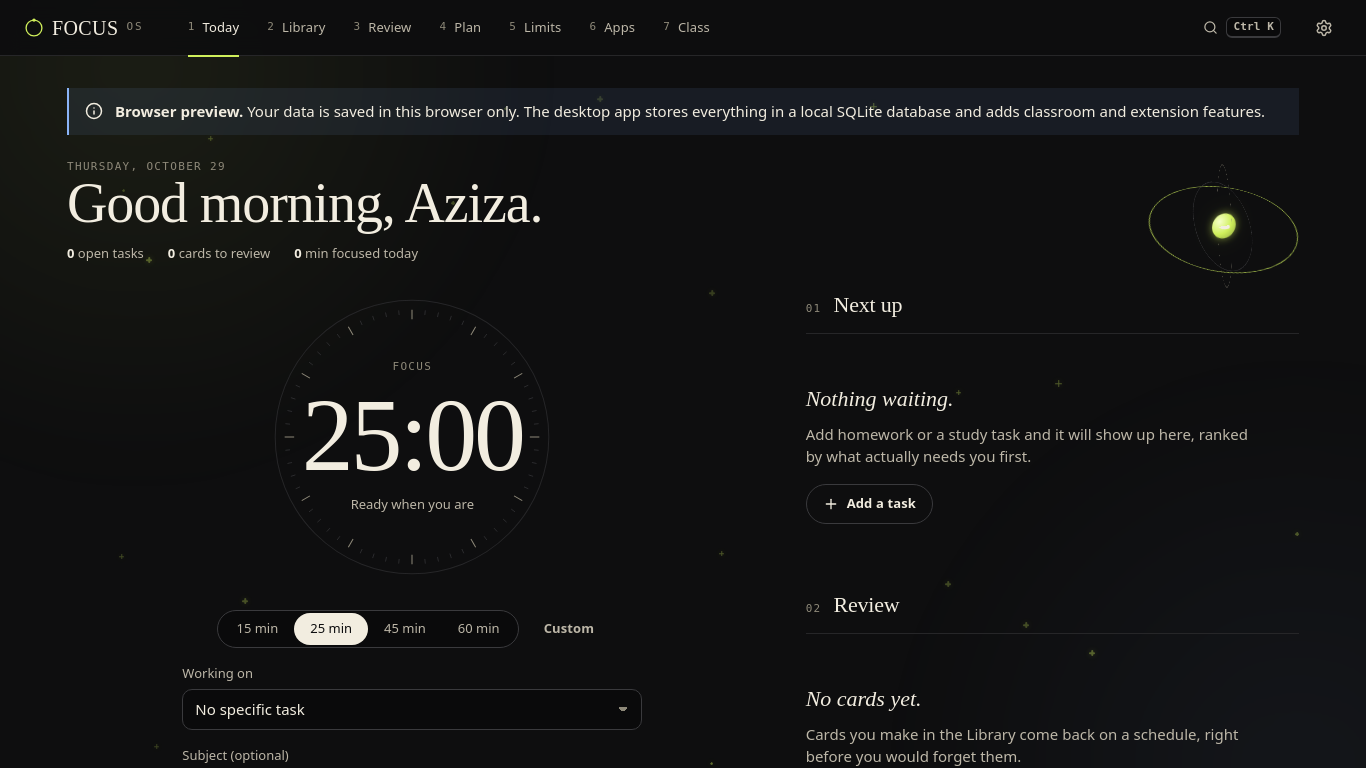
Test: navigation, palette and shortcuts › palette finds notes by content
Check: the text "25:00" is shown, box [302, 383, 523, 487]
Type keys "{Control>}k{/Control}"
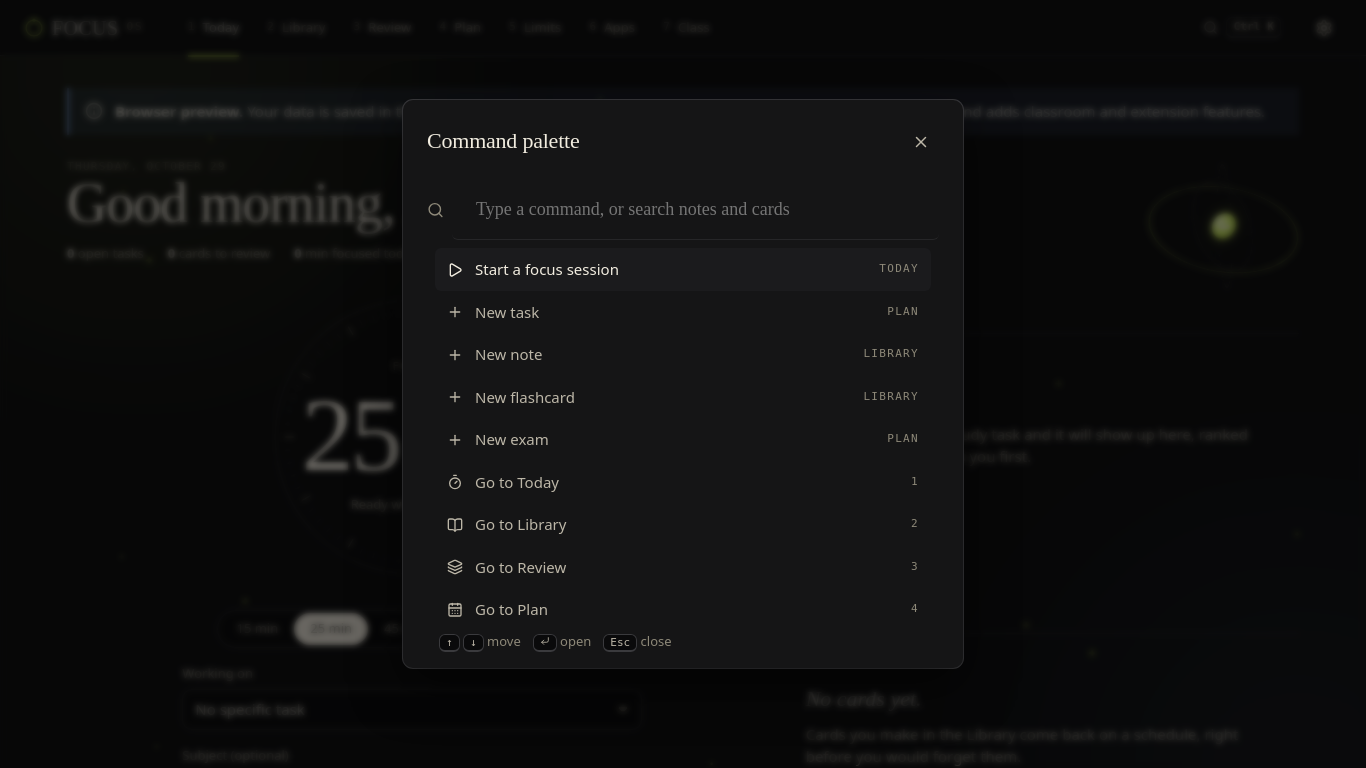
Type "sum of roots" into the dropdown named "search commands, notes and cards" at x=696, y=210, box [452, 180, 939, 240]
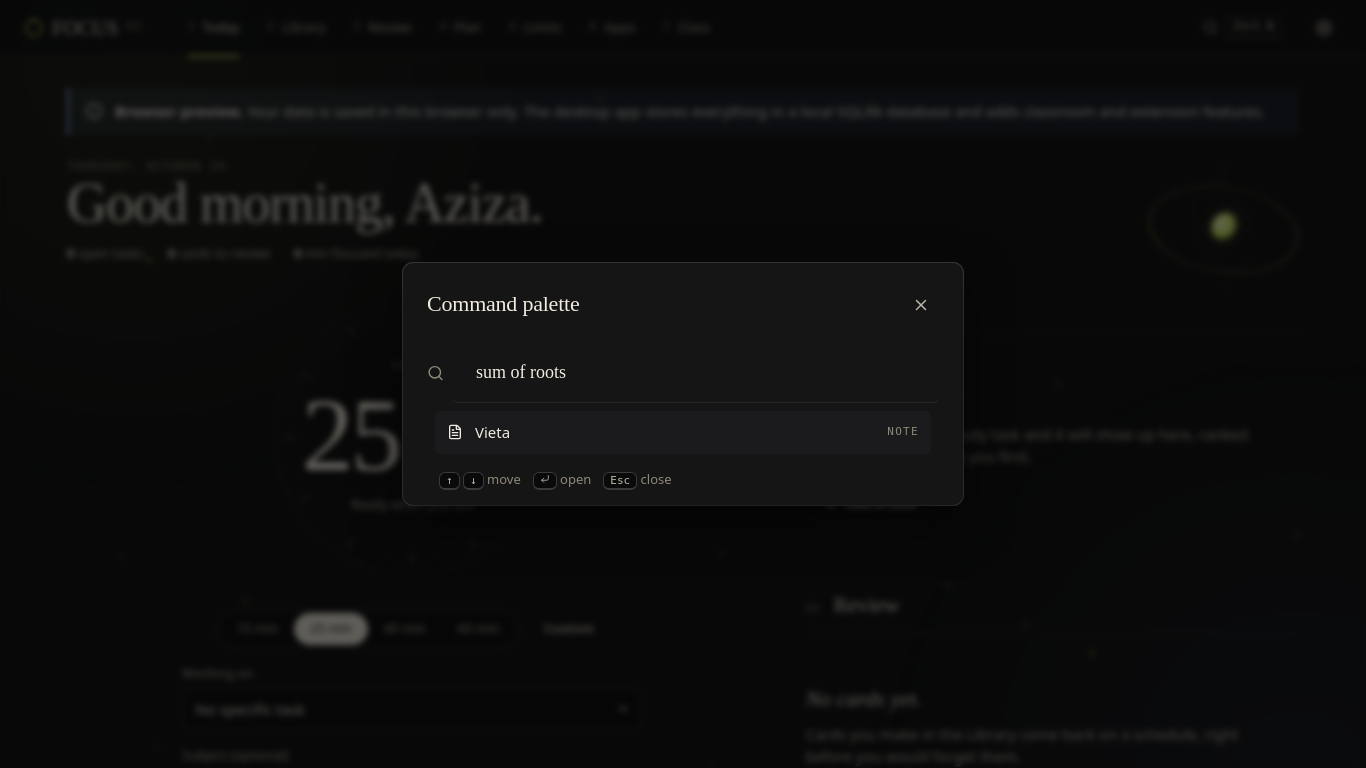
Check: the option "Vieta Note" is shown, box [435, 411, 931, 454]
